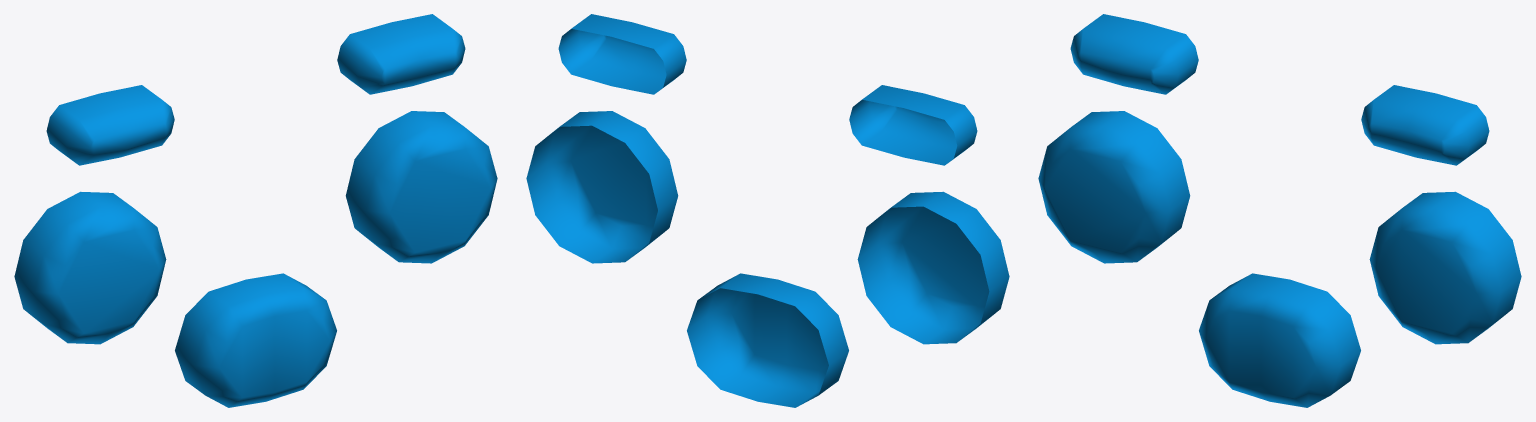
File: Drone_002_Face_Surprised_001.fbx
3 views of the same model, side by side, from view 1: azimuth 30°, elevation 25°; view 2: azimuth 150°, elevation 25°; view 3: azimuth 330°, elevation 25° (orthographic).
Visible parts, largest first — view 1: Drone_002_Face_Surprised_001; view 2: Drone_002_Face_Surprised_001; view 3: Drone_002_Face_Surprised_001.
Part boxes in pixels (x1,y1,x2,y2): Drone_002_Face_Surprised_001: (14, 14, 497, 407); Drone_002_Face_Surprised_001: (526, 14, 1009, 407); Drone_002_Face_Surprised_001: (1038, 14, 1521, 407).
Size of the model in its own units: 11.16 by 1.2 by 7.58.
